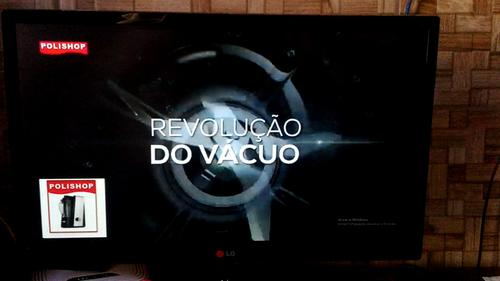Polishop #1: (38, 178, 107, 238)
